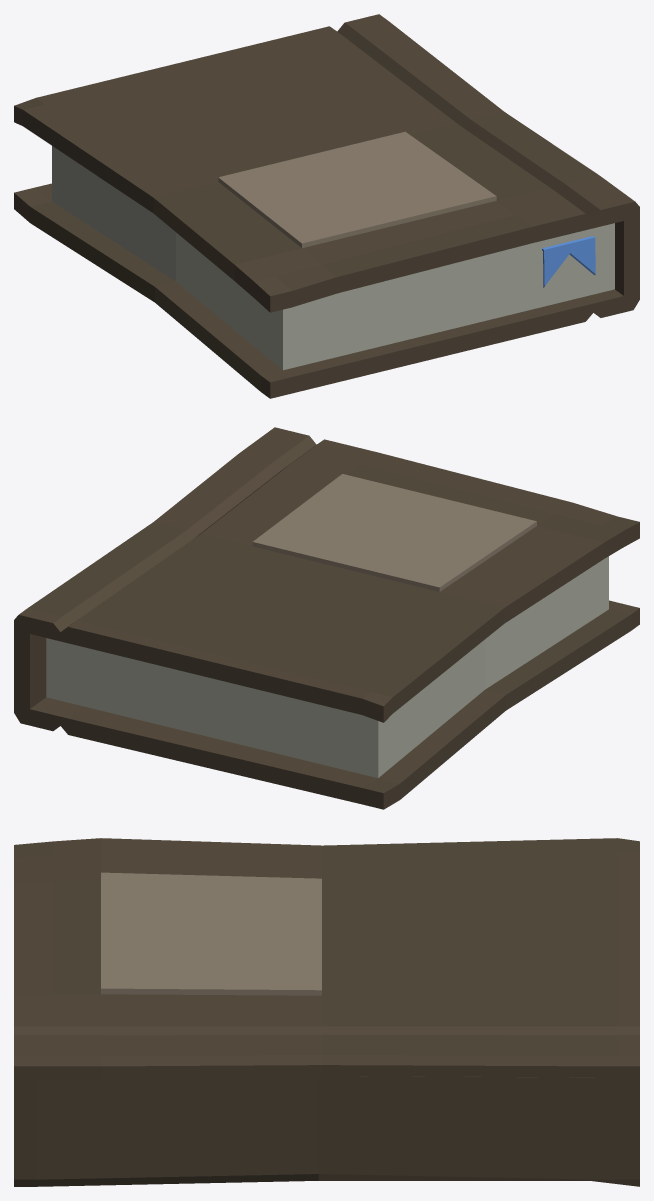
The model's file is book.fbx.
The picture shows the model from 3 angles, top to bottom: view 1: azimuth 30°, elevation 25°; view 2: azimuth 150°, elevation 25°; view 3: azimuth 270°, elevation 25°; orthographic projection. The views are drawn at different scales.
Visible parts, largest first — view 1: Plane.400; view 2: Plane.400; view 3: Plane.400.
Part boxes in pixels (box(x1,y1,x2,y2)): Plane.400: box(14, 14, 639, 398); Plane.400: box(14, 427, 639, 809); Plane.400: box(14, 838, 639, 1186).
Size of the model in its own units: 48.29 by 14.08 by 57.95.
